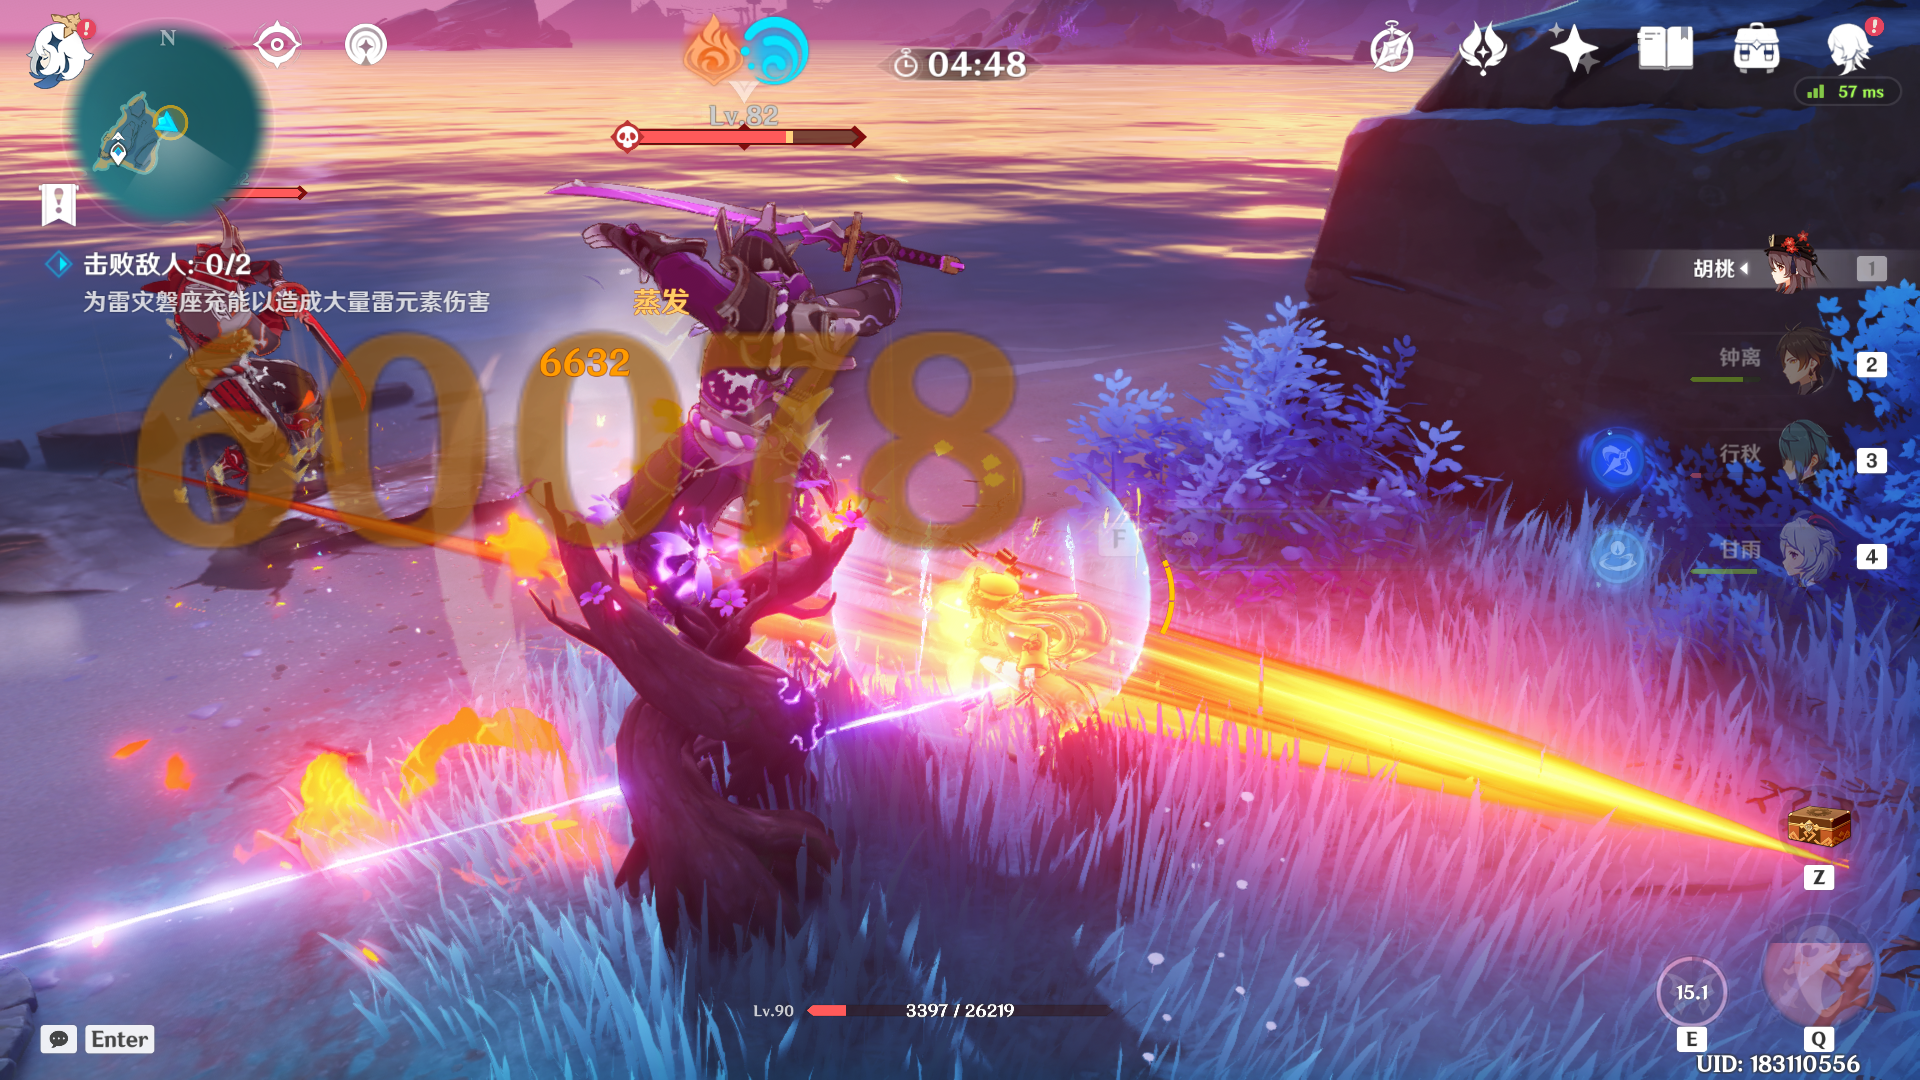samurai: (488, 84, 963, 659), (119, 200, 440, 611)
